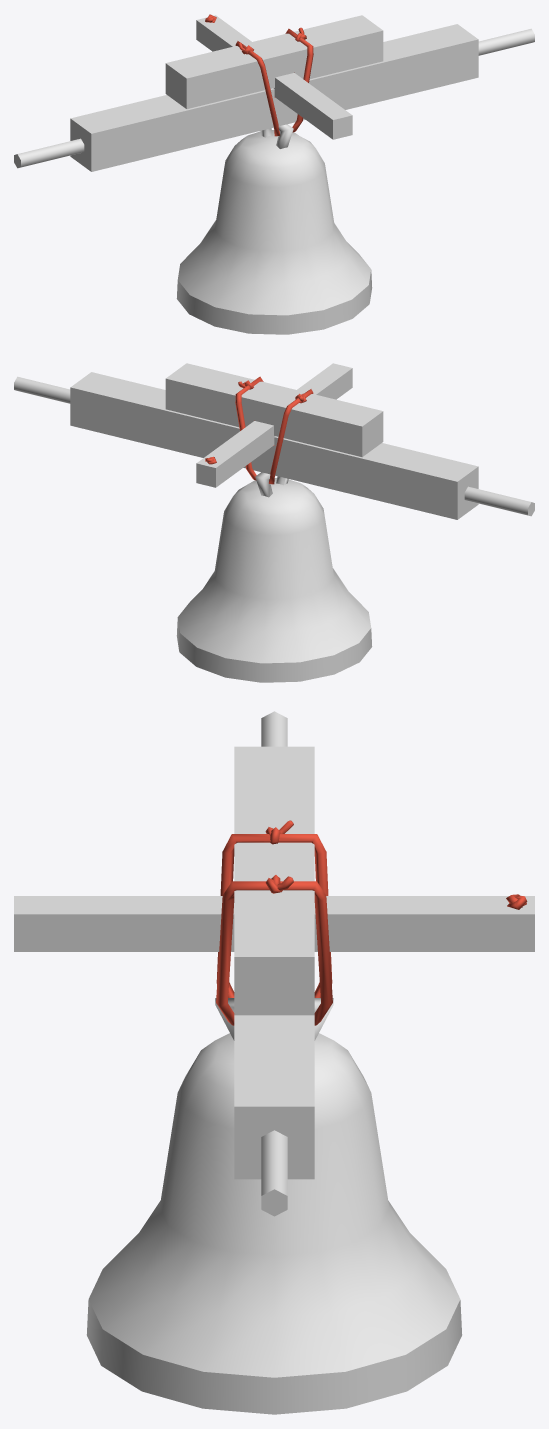
Rendered from bell_LP.fbx.
3 views of the same model, one above another, from view 1: azimuth 30°, elevation 25°; view 2: azimuth 150°, elevation 25°; view 3: azimuth 270°, elevation 25° (orthographic). The views are drawn at different scales.
Visible parts, largest first — view 1: main.001; view 2: main.001; view 3: main.001.
Boxes of the visible parts, bbox=[...] form: main.001: bbox=[14, 14, 534, 334]; main.001: bbox=[14, 363, 534, 682]; main.001: bbox=[14, 711, 534, 1414].
Size of the model in its own units: 61.5 by 133 by 69.98.
